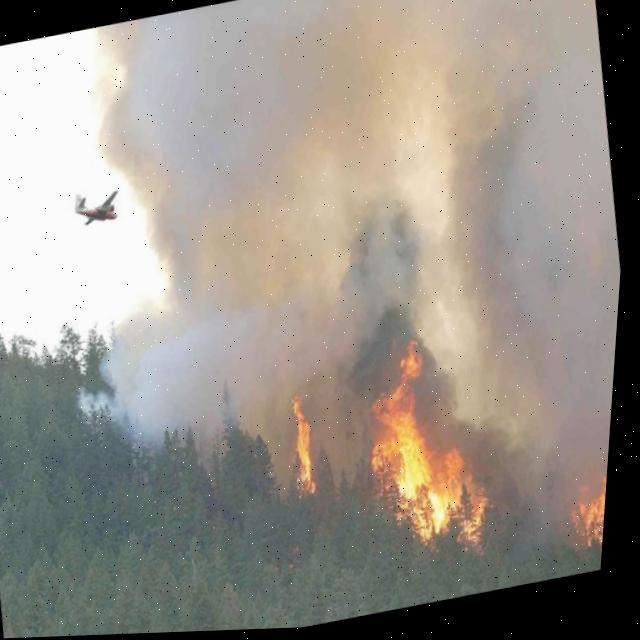fire: (371, 391, 472, 546), (579, 484, 614, 568)
smoke: (114, 0, 625, 409), (444, 326, 622, 471)
